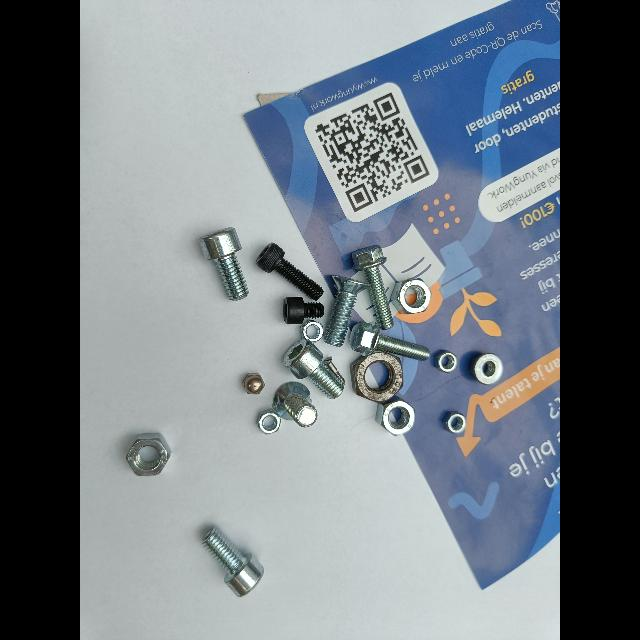bolt: (202, 526, 264, 596), (256, 243, 323, 301), (284, 338, 345, 399), (199, 228, 249, 300), (352, 246, 394, 330), (324, 275, 368, 347), (349, 321, 430, 360), (258, 382, 318, 434), (283, 297, 324, 325), (322, 356, 345, 386)
nuts: (351, 350, 403, 404), (126, 433, 171, 476), (375, 396, 415, 435), (390, 277, 431, 314), (469, 353, 503, 385), (256, 407, 286, 435), (442, 411, 466, 437), (300, 319, 324, 343), (433, 350, 458, 373), (242, 373, 265, 395)
